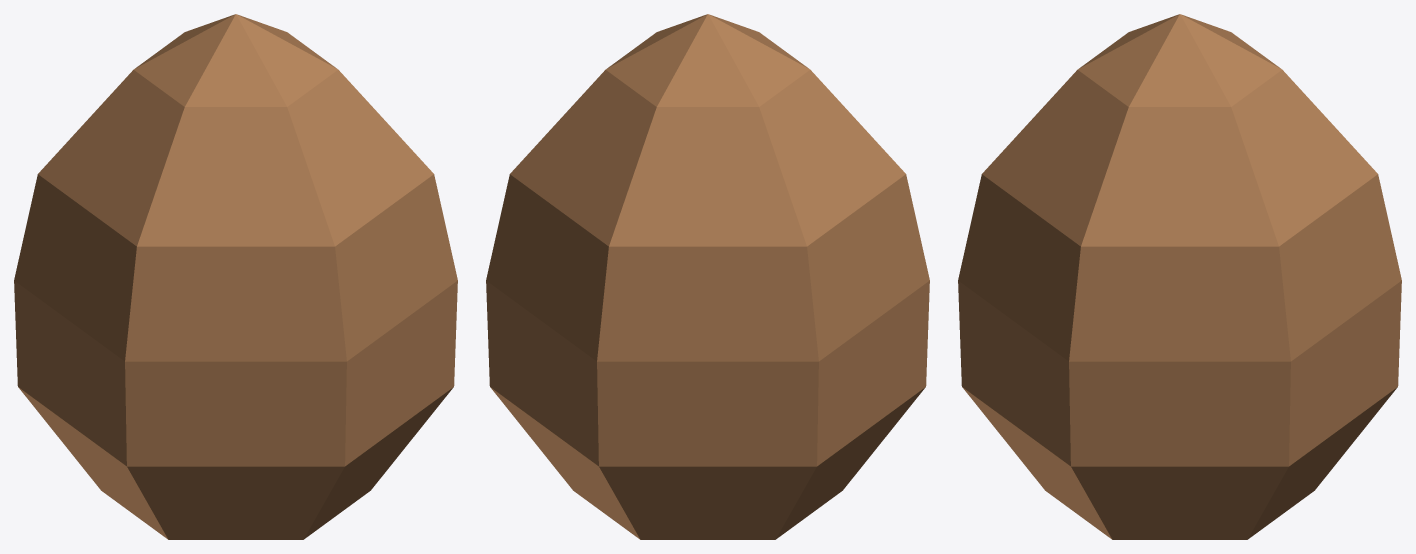
Rendered from Coconut.fbx.
The picture shows the model from 3 angles, left to right: view 1: azimuth 30°, elevation 25°; view 2: azimuth 150°, elevation 25°; view 3: azimuth 270°, elevation 25°; orthographic projection.
Parts seen in each view (by area): view 1: Coconut_All, Coconut_Top, Coconut_Down; view 2: Coconut_All, Coconut_Top, Coconut_Down; view 3: Coconut_Top, Coconut_All.
Part boxes in pixels (left/top/right/bottom): Coconut_All: left=14, top=15, right=457, bottom=539; Coconut_Top: left=153, top=14, right=457, bottom=361; Coconut_Down: left=17, top=361, right=378, bottom=539; Coconut_All: left=486, top=15, right=929, bottom=539; Coconut_Top: left=487, top=14, right=775, bottom=361; Coconut_Down: left=568, top=361, right=926, bottom=539; Coconut_Top: left=971, top=14, right=1400, bottom=361; Coconut_All: left=958, top=14, right=1401, bottom=539.
Size of the model in its own units: 10.89 by 15.65 by 12.57.
